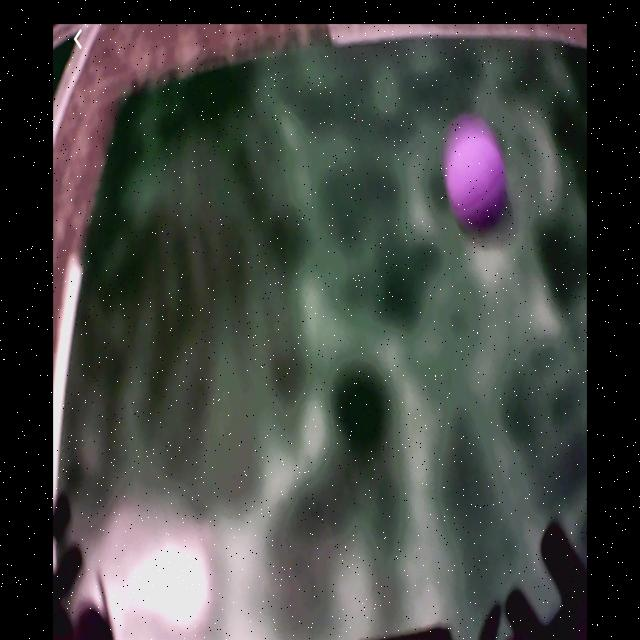ball: (449, 132, 505, 224)
